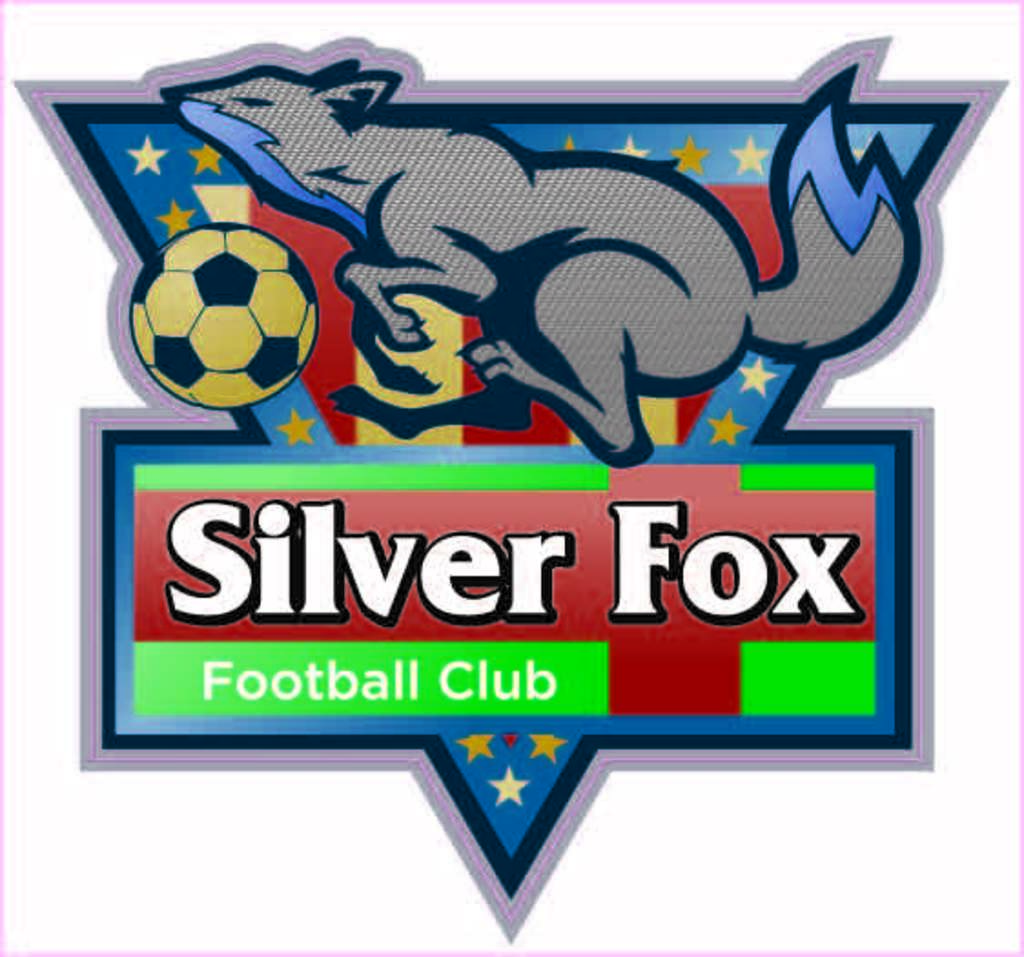Ball: (133, 221, 313, 408)
